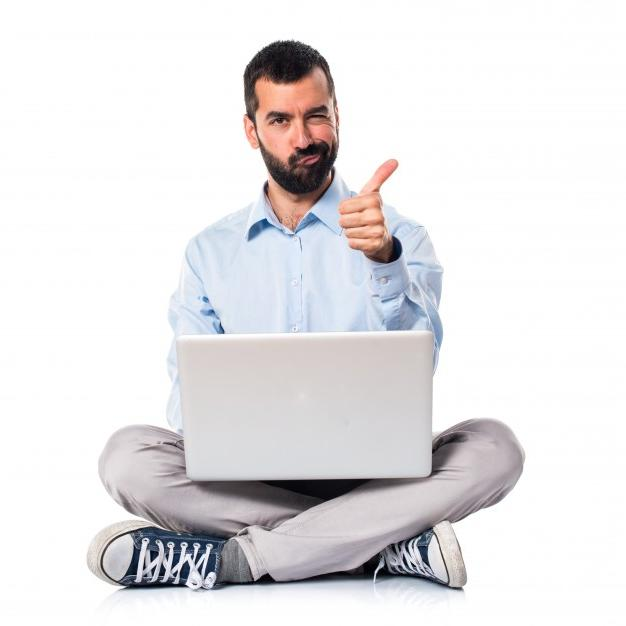thumbsup: (338, 159, 398, 252)
